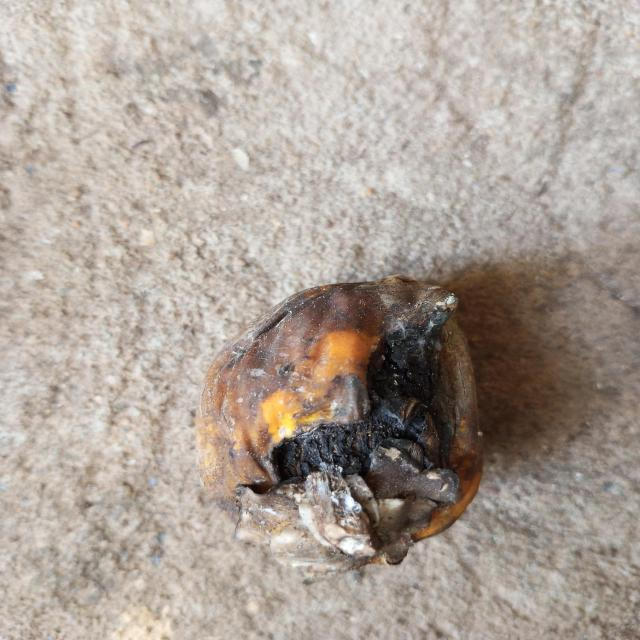damaged: (196, 276, 482, 572)
